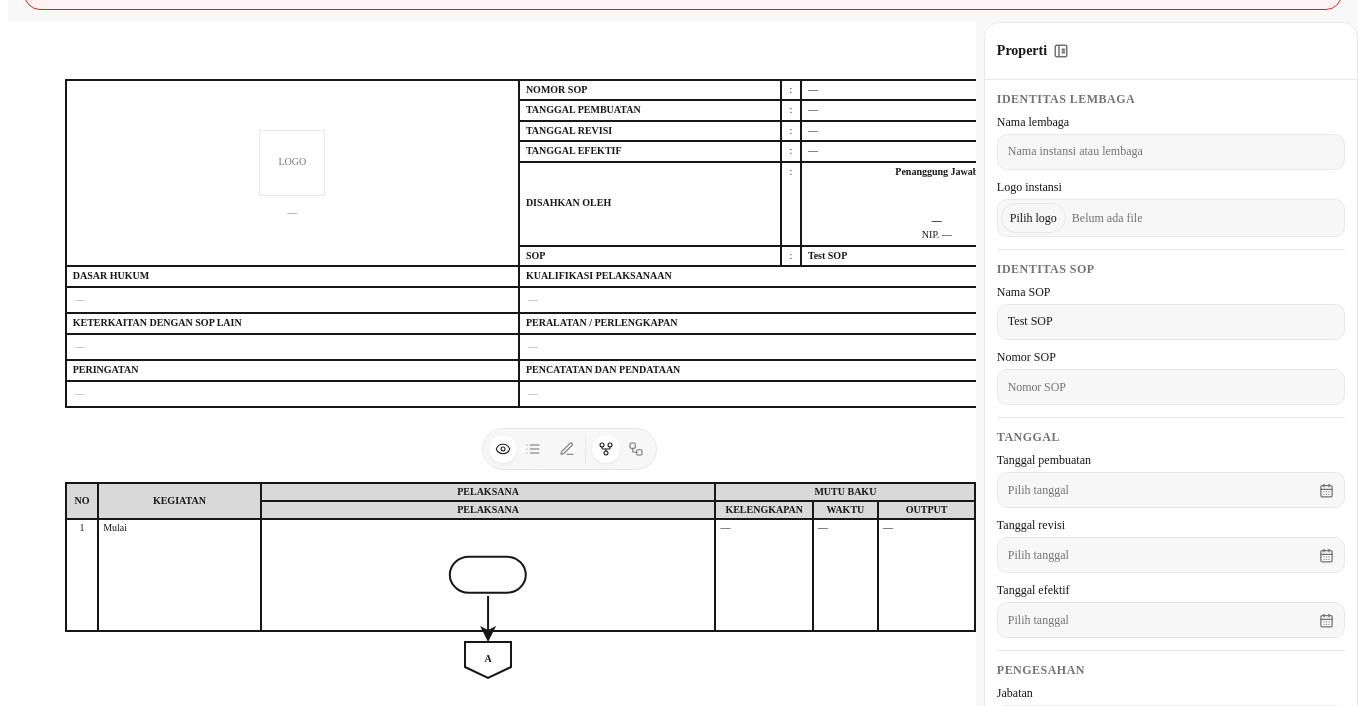
Test: SopEditor document workbench › edits steps inline in the document instead of the inspector
Click the button named "Edit langkah" at (533, 449), box [519,435,547,463]
(page scrolled)
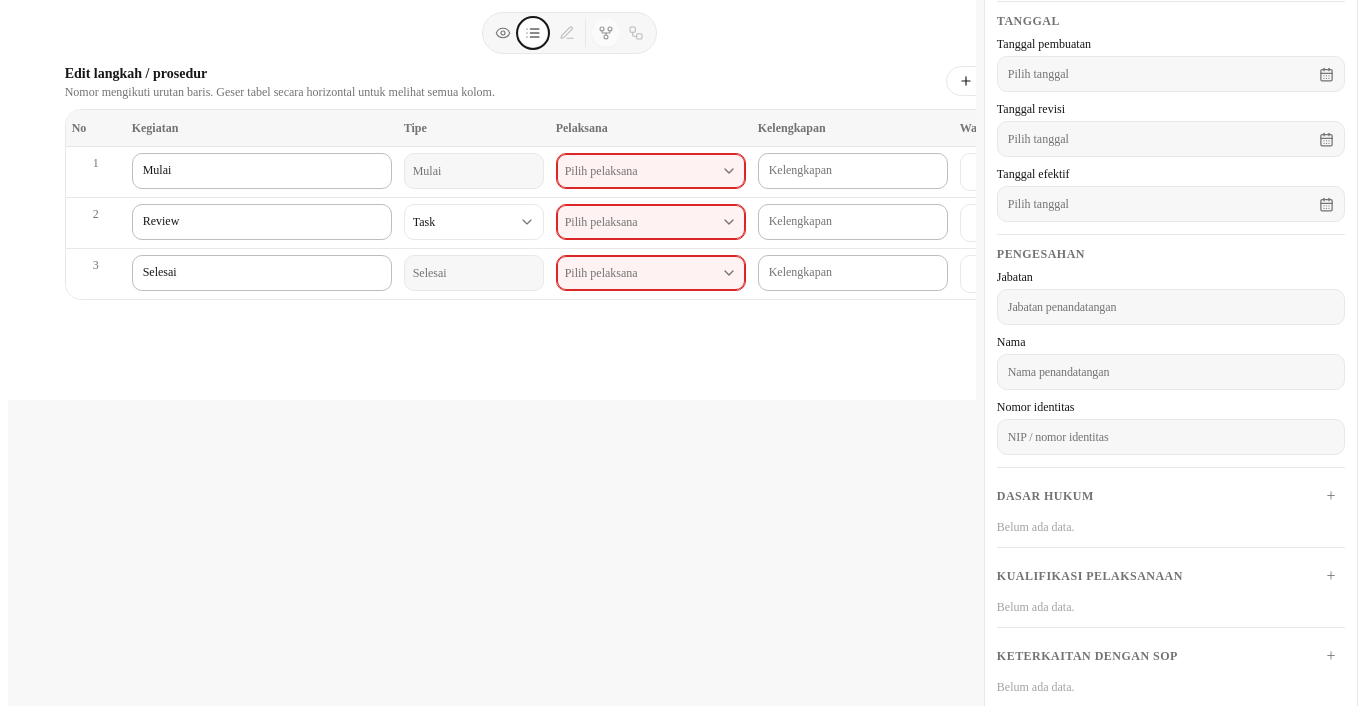
Check: the 2nd text box showing "Review" is shown, box [132,204,392,240]
Check: the element named "editor langkah sop; gulir horizontal" is shown, box [65,109,976,300]
Check: the text "Geser tabel secara horizontal" is shown, box [65,85,495,99]
